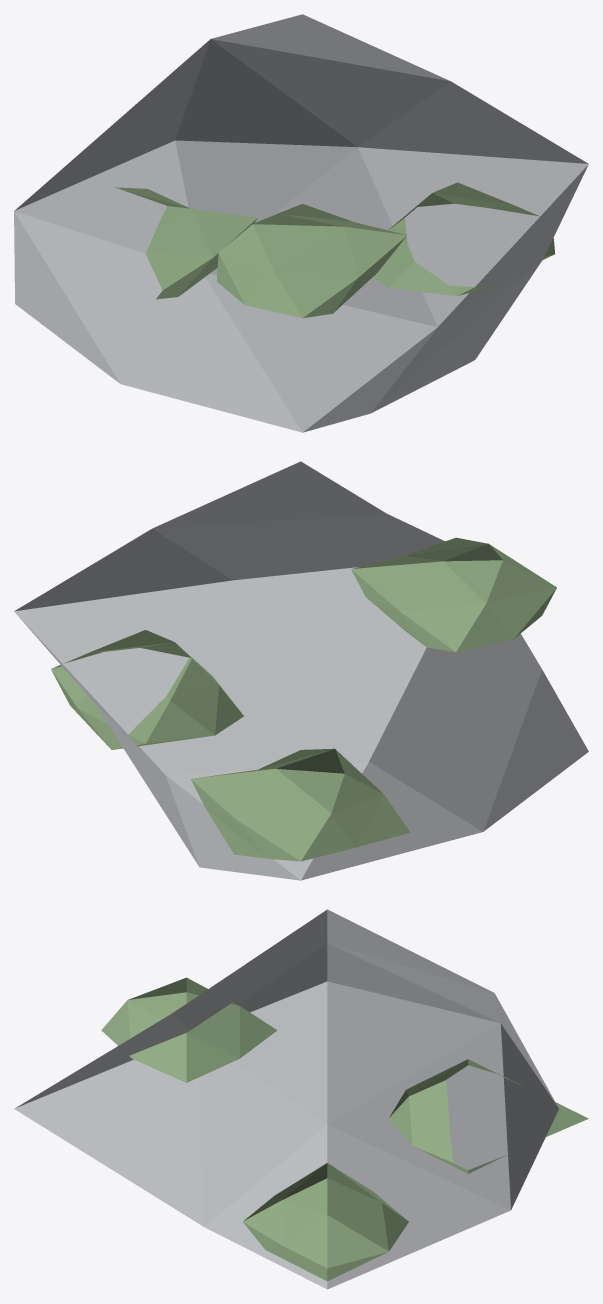
File: moss_rock_v43.glb
3 renders of one model, top to bottom at view 1: azimuth 30°, elevation 25°; view 2: azimuth 150°, elevation 25°; view 3: azimuth 270°, elevation 25°, orthographic. The views are drawn at different scales.
Parts seen in each view (by area): view 1: lod0; view 2: lod0; view 3: lod0.
Boxes of the visible parts, left/top/right/bottom form: lod0: left=14, top=14, right=588, bottom=432; lod0: left=14, top=461, right=588, bottom=880; lod0: left=14, top=909, right=588, bottom=1289.
Size of what is drawn, in the model's own units: 1.2 by 0.8389 by 1.15.
